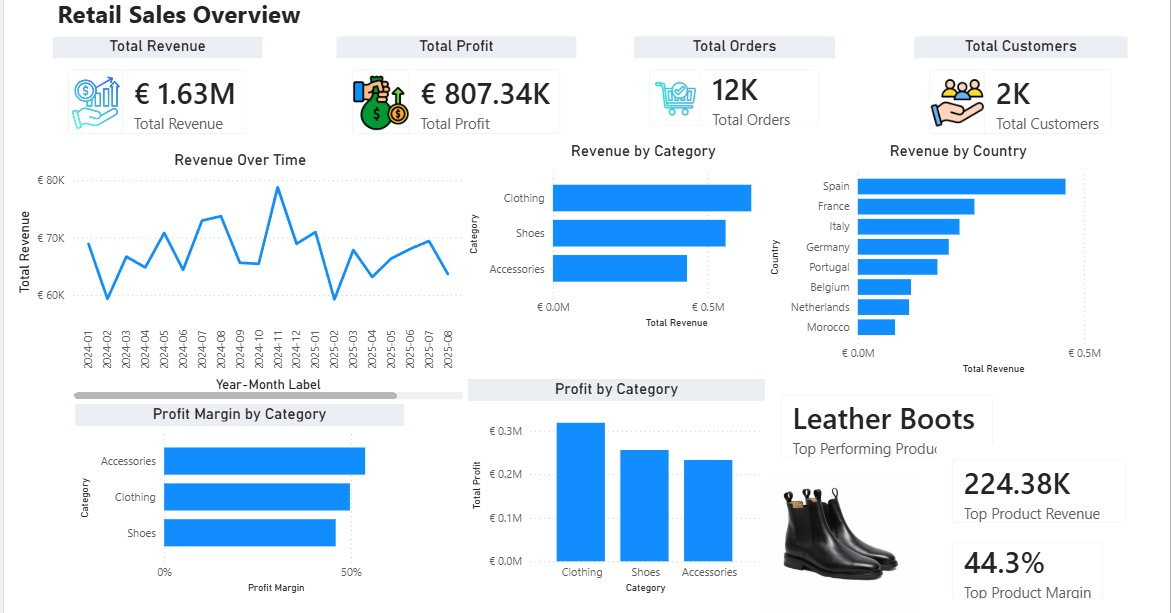

What the dashboard file says about the page in this screenshot:
{"tool":"powerbi","page":{"name":"Retail overview","canvas":[1280,720],"ordinal":0},"visuals":[{"type":"cardVisual","title":"Total Revenue","fields":{"Data":["Sales.Total Revenue"]},"box":[53.5,85.1,230.5,124.9],"z":0},{"type":"cardVisual","title":"Total Profit","fields":{"Data":["Sales.Total Profit"]},"box":[365,85.1,263.5,124.9],"z":1000},{"type":"cardVisual","title":"Total Orders","fields":{"Data":["Sales.Total Orders"]},"box":[691.6,85.1,220.9,115.3],"z":2000},{"type":"cardVisual","title":"Total Customers","fields":{"Data":["Sales.Total Customers"]},"box":[999,85.1,234.6,124.9],"z":3000},{"type":"lineChart","title":"Revenue Over Time","fields":{"Y":["Sales.Total Revenue"],"Category":["Date.Year-Month Label"]},"box":[9.6,209.9,499.5,278.6],"z":4000},{"type":"clusteredBarChart","title":"Revenue by Category","fields":{"Y":["Sales.Total Revenue"],"Category":["Sales.Category"]},"box":[505,200.3,393.8,209.9],"z":5000},{"type":"columnChart","title":"Profit by Category","fields":{"Y":["Sales.Total Profit"],"Category":["Sales.Category"]},"box":[509.1,461.1,326.6,240.1],"z":6000},{"type":"clusteredBarChart","title":"Revenue by Country","fields":{"Y":["Sales.Total Revenue"],"Category":["Countries.Country"]},"box":[835.7,200.3,424,260.7],"z":7000},{"type":"clusteredBarChart","fields":{"Category":["Sales.Category"],"Y":["Sales.Profit Margin"]},"box":[78.2,488.5,360.9,212.7],"z":8000},{"type":"image","box":[835.7,551.6,163.3,168.8],"z":9000},{"type":"cardVisual","fields":{"Data":["Sales.Top Performing Product"]},"box":[835.7,461.1,267.6,104.3],"z":10000},{"type":"cardVisual","fields":{"Data":["Sales.Top Product Margin"]},"box":[1023.7,623,200.3,97.4],"z":11000},{"type":"cardVisual","fields":{"Data":["Sales.Top Product Revenue"]},"box":[1023.7,532.4,225,104.3],"z":12000},{"type":"textbox","box":[53.5,37,311.5,48],"z":13000}]}

Visuals, with their boxes on the page's 1280x720 design canvas (x1, y1, x2, y2). These are canvas units, not pixel positions in the 1171x613 screenshot, which may show the page scaled, cropped or inside an application window:
"Total Revenue" cardVisual: (left=54, top=85, right=284, bottom=210)
"Total Profit" cardVisual: (left=365, top=85, right=628, bottom=210)
"Total Orders" cardVisual: (left=692, top=85, right=912, bottom=200)
"Total Customers" cardVisual: (left=999, top=85, right=1234, bottom=210)
"Revenue Over Time" lineChart: (left=10, top=210, right=509, bottom=488)
"Revenue by Category" clusteredBarChart: (left=505, top=200, right=899, bottom=410)
"Profit by Category" columnChart: (left=509, top=461, right=836, bottom=701)
"Revenue by Country" clusteredBarChart: (left=836, top=200, right=1260, bottom=461)
clusteredBarChart - Sales.Category x Sales.Profit Margin: (left=78, top=488, right=439, bottom=701)
image: (left=836, top=552, right=999, bottom=720)
cardVisual - Sales.Top Performing Product: (left=836, top=461, right=1103, bottom=565)
cardVisual - Sales.Top Product Margin: (left=1024, top=623, right=1224, bottom=720)
cardVisual - Sales.Top Product Revenue: (left=1024, top=532, right=1249, bottom=637)
textbox: (left=54, top=37, right=365, bottom=85)
